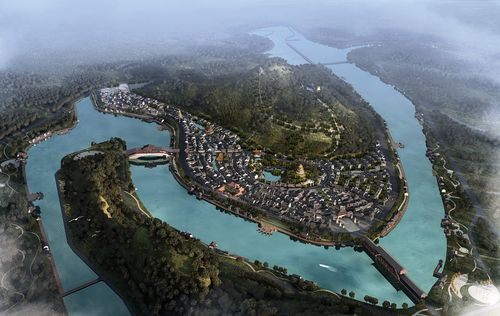mountain: (65, 149, 223, 308), (162, 53, 392, 161)
